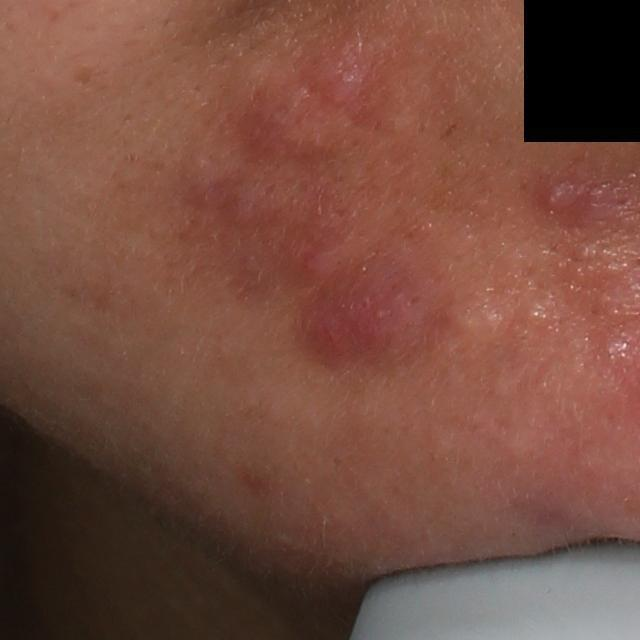hypertrophic_scar: (442, 287, 510, 340), (520, 299, 557, 336)
nodule: (297, 250, 433, 369)
papule: (237, 87, 334, 167), (311, 46, 374, 109), (223, 173, 274, 235), (538, 169, 589, 222), (179, 153, 227, 208), (289, 241, 341, 289)
